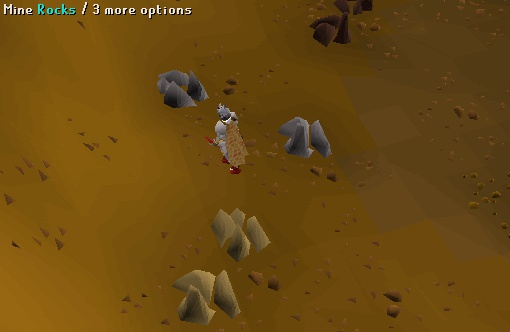clay: (202, 197, 279, 264), (167, 261, 244, 328)
iron: (305, 9, 359, 58)
tin: (273, 108, 345, 172), (144, 56, 216, 120)
